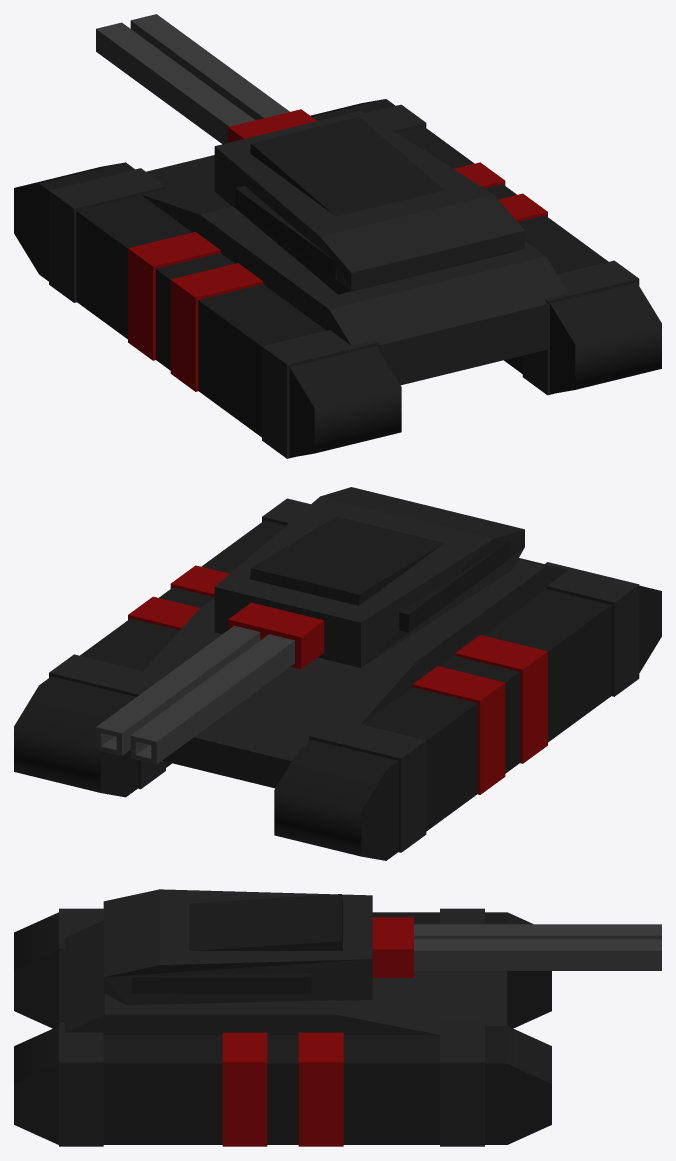
File: Tank.dae
3 renders of one model, top to bottom at view 1: azimuth 30°, elevation 25°; view 2: azimuth 150°, elevation 25°; view 3: azimuth 270°, elevation 25°, orthographic. The views are drawn at different scales.
Parts seen in each view (by area): view 1: Metal_Parts, Dark_Metal_Parts, Red_Metal_Parts, Light_Metal_Parts; view 2: Dark_Metal_Parts, Metal_Parts, Red_Metal_Parts, Light_Metal_Parts; view 3: Dark_Metal_Parts, Metal_Parts, Red_Metal_Parts, Light_Metal_Parts.
Part boxes in pixels (x1,y1,x2,y2): Metal_Parts: [49, 104, 639, 458]; Dark_Metal_Parts: [14, 99, 661, 457]; Red_Metal_Parts: [128, 109, 547, 391]; Light_Metal_Parts: [96, 14, 289, 144]; Dark_Metal_Parts: [14, 516, 661, 860]; Metal_Parts: [49, 487, 639, 852]; Red_Metal_Parts: [128, 565, 547, 794]; Light_Metal_Parts: [96, 626, 294, 764]; Dark_Metal_Parts: [14, 894, 551, 1144]; Metal_Parts: [59, 889, 507, 1146]; Red_Metal_Parts: [222, 917, 413, 1146]; Light_Metal_Parts: [414, 924, 661, 970].
Bounding box in the file's own units: 0.8117 × 0.3742 × 1.44.
